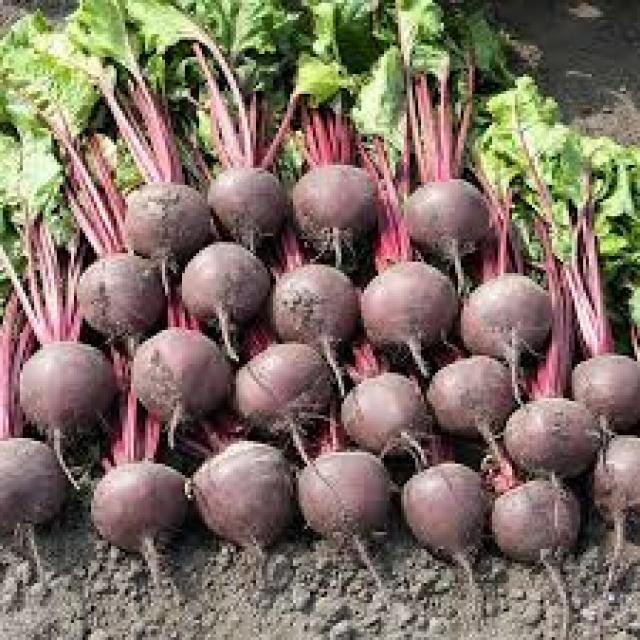beet: (11, 334, 124, 458), (187, 441, 291, 569), (122, 320, 230, 432), (421, 351, 530, 461), (328, 358, 436, 468), (83, 457, 195, 562), (400, 452, 491, 580), (451, 263, 555, 374), (228, 338, 332, 448), (285, 446, 396, 547), (389, 174, 496, 277), (354, 258, 456, 366), (256, 261, 366, 359), (176, 226, 268, 338), (192, 154, 294, 251), (502, 392, 614, 478), (116, 177, 209, 279), (288, 157, 378, 249), (65, 251, 161, 337), (0, 433, 66, 542), (582, 427, 640, 534), (569, 346, 640, 426)
